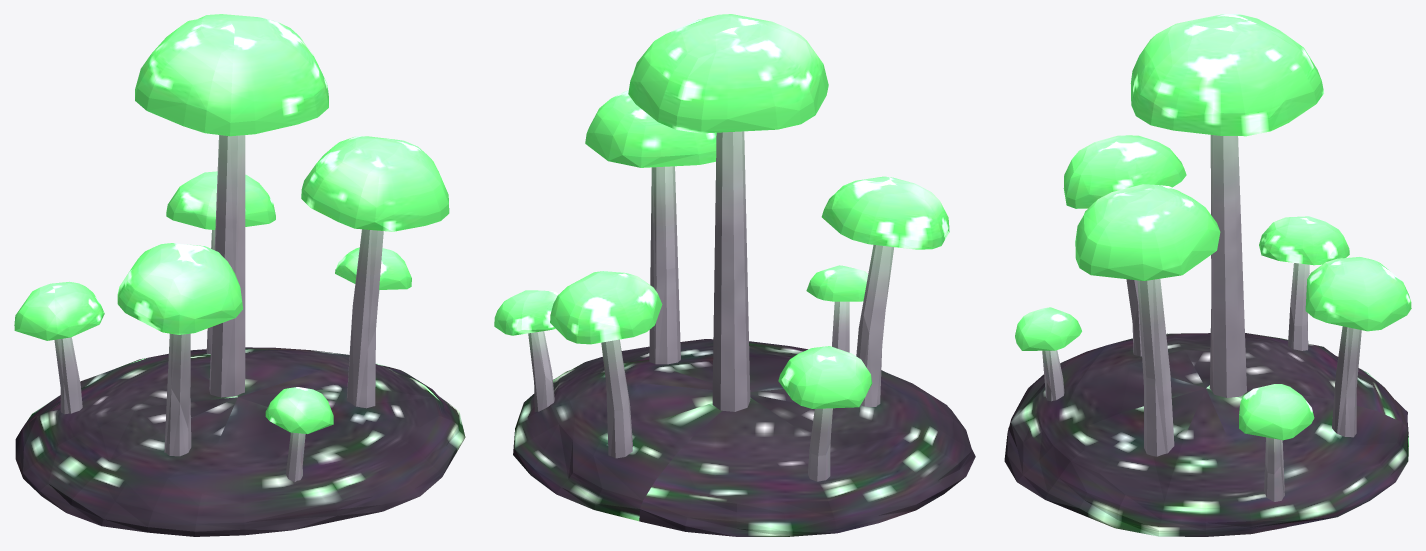
The model's file is fungo_verde_v01.glb.
3 renders of one model, left to right at view 1: azimuth 30°, elevation 25°; view 2: azimuth 150°, elevation 25°; view 3: azimuth 270°, elevation 25°, orthographic. The views are drawn at different scales.
Parts seen in each view (by area): view 1: fungo_verde; view 2: fungo_verde; view 3: fungo_verde.
Part boxes in pixels (left/top/right/bottom): fungo_verde: left=14, top=14, right=465, bottom=536; fungo_verde: left=494, top=14, right=975, bottom=536; fungo_verde: left=1004, top=14, right=1411, bottom=536.
Bounding box in the file's own units: 0.4059 × 0.4046 × 0.357.
Materials: 1 (1 with a texture image).
